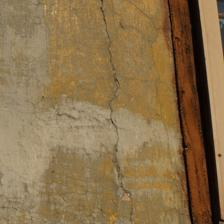Crack: (48, 1, 89, 219)
